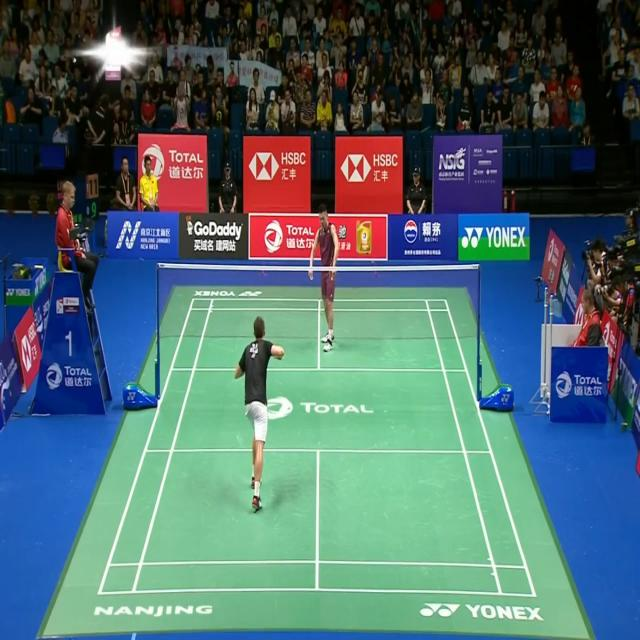Player1: (232, 311, 286, 515)
Player2: (305, 204, 343, 359)
